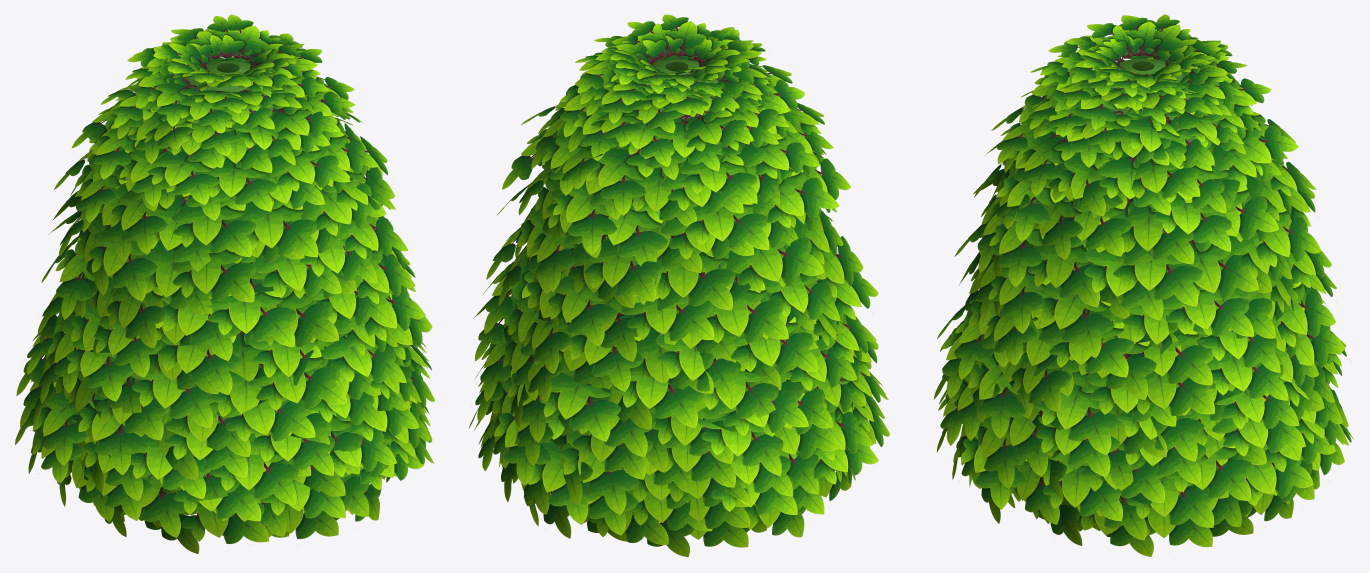
The model's file is seto_largo.glb.
3 renders of one model, left to right at view 1: azimuth 30°, elevation 25°; view 2: azimuth 150°, elevation 25°; view 3: azimuth 270°, elevation 25°, orthographic.
Parts seen in each view (by area): view 1: particula (×114), base; view 2: particula (×121), base; view 3: particula (×116), base.
Boxes of the visible parts, box(x1,y1,x2,y2) form: particula (×114): box(27, 14, 433, 553); base: box(183, 60, 299, 271); particula (×121): box(475, 14, 888, 556); base: box(570, 59, 750, 314); particula (×116): box(938, 14, 1348, 556); base: box(1001, 58, 1193, 393).
Bounding box in the file's own units: 200 × 232 × 200.
2 materials, 2 textured.
